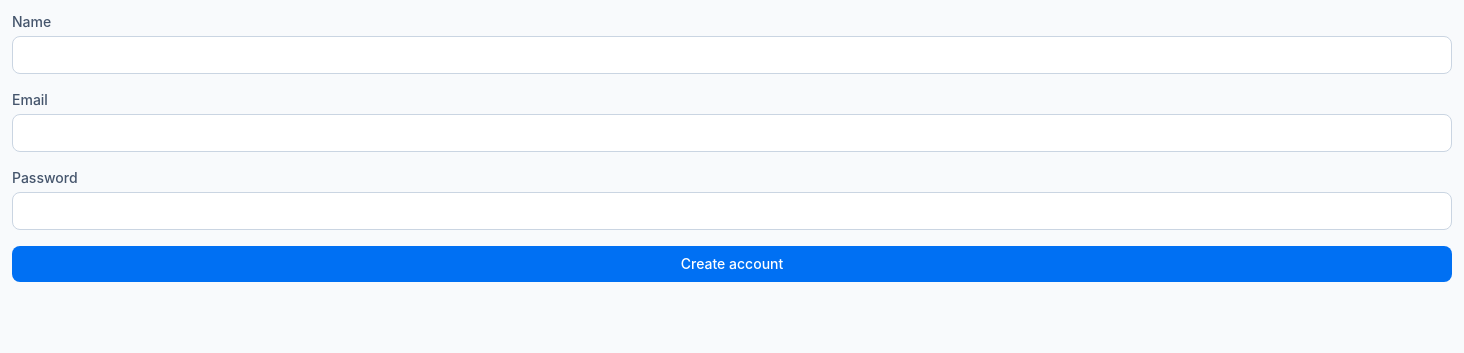
it: RegisterForm › shows the rate limit with the retry delay
This screenshot has width=1464, height=353.
Type " Olena " into the field labelled "Name".
click(732, 55); type(" Olena ")  # box [12,36,1452,74]
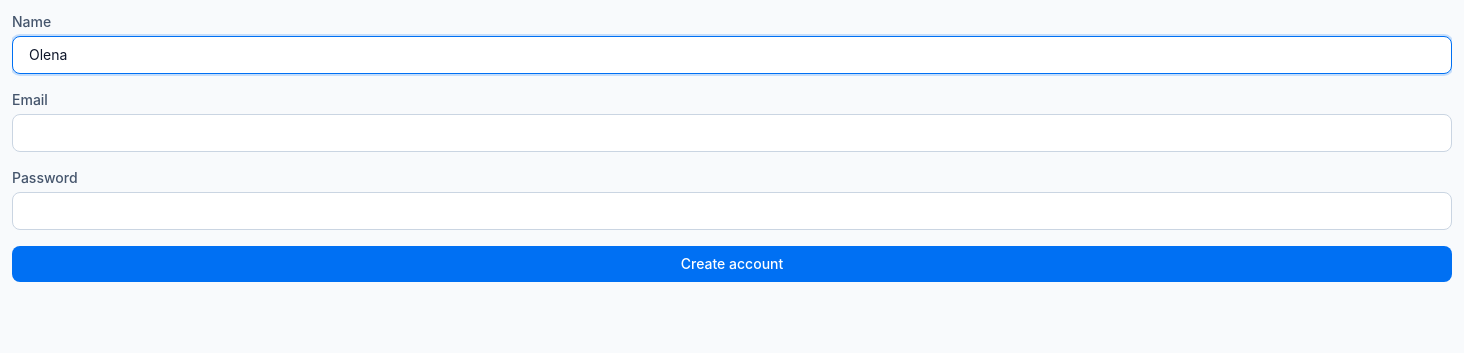
Type " New.Client@Example.com " into the field labelled "Email".
click(732, 133); type(" New.Client@Example.com ")  # box [12,114,1452,152]
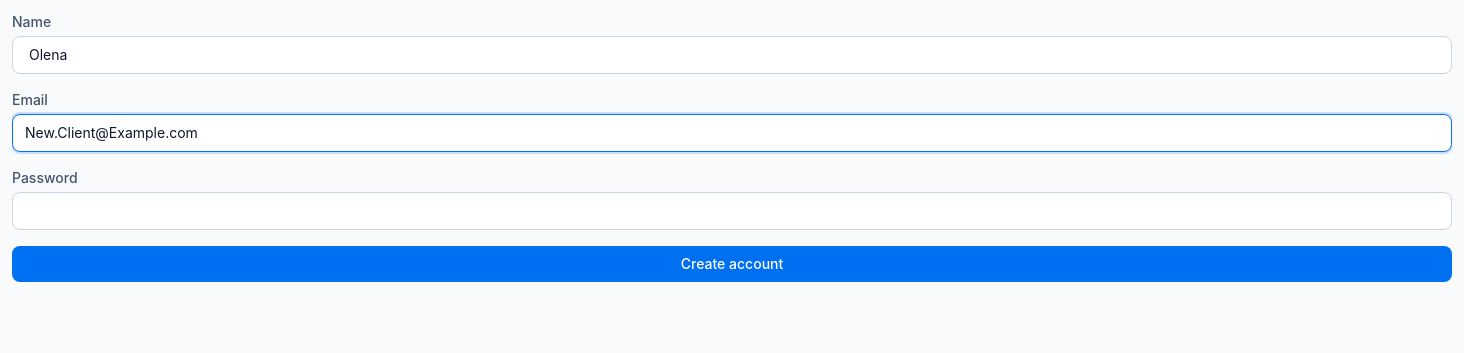
Type "password123" into the password field labelled "Password".
click(732, 211); type("password123")  # box [12,192,1452,230]
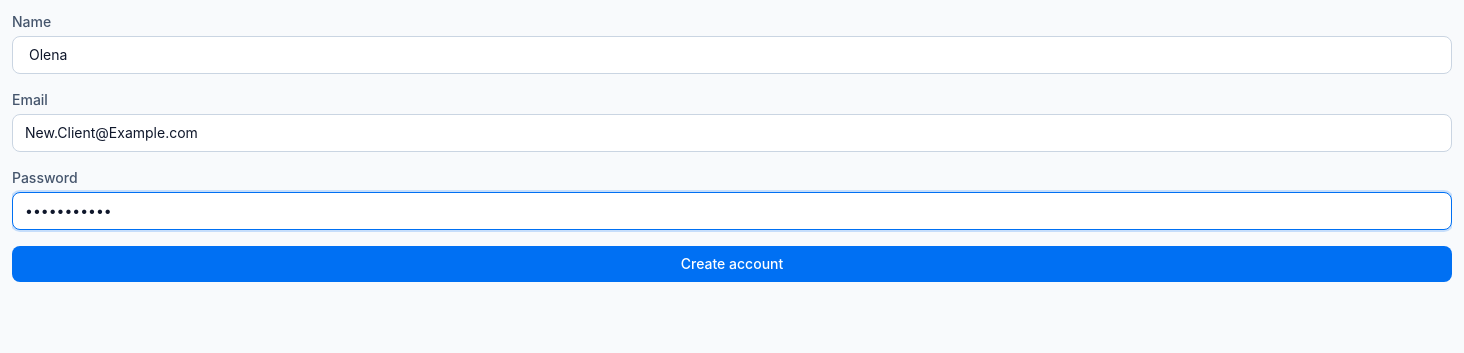
Click the button "Create account".
click(732, 264)  # box [12,246,1452,282]
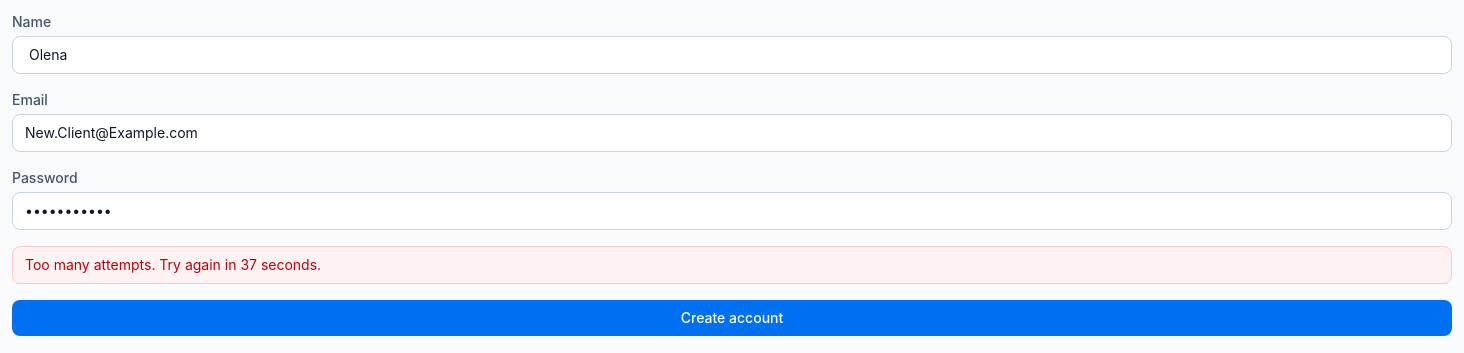
Check: the message reads "Too many attempts. Try again in 37 seconds.", box [25,256,321,273]
